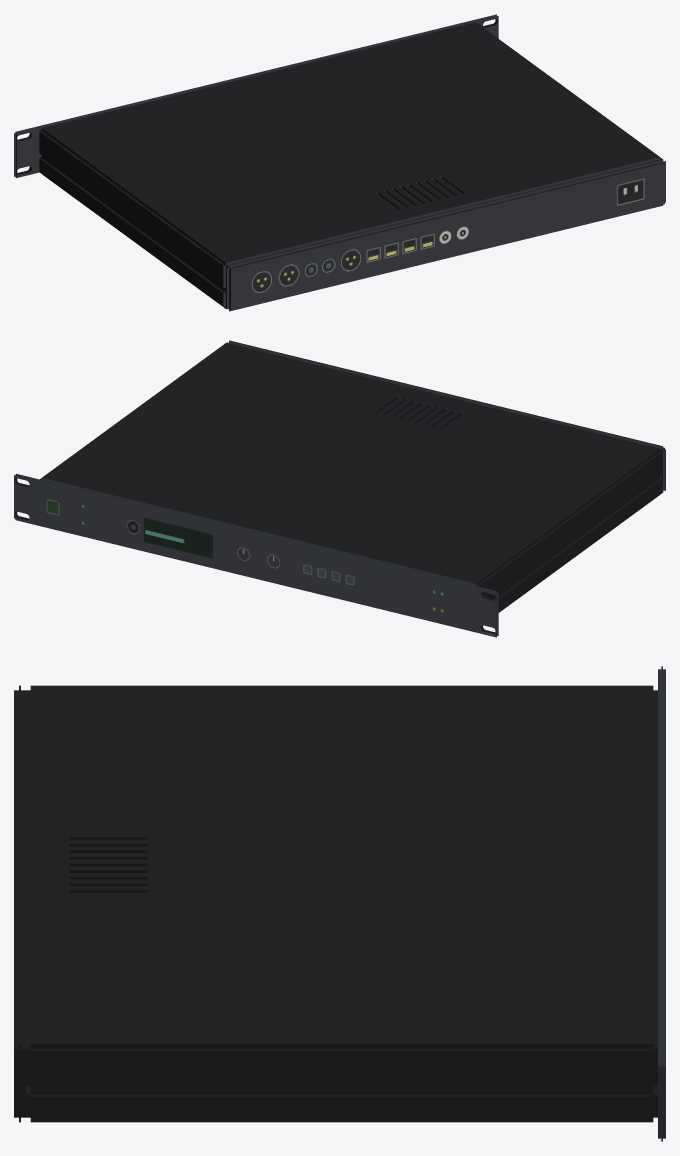
The model's file is shure-axient-digital-ad4d.glb.
3 views of the same model, one above another, from view 1: azimuth 30°, elevation 25°; view 2: azimuth 150°, elevation 25°; view 3: azimuth 270°, elevation 25° (orthographic). The views are drawn at different scales.
Visible parts, largest first — view 1: shure-axient-digital-ad4d-body; view 2: shure-axient-digital-ad4d-body; view 3: shure-axient-digital-ad4d-body.
Boxes of the visible parts, x1,y1,x2,y2 form: shure-axient-digital-ad4d-body: [14, 14, 665, 311]; shure-axient-digital-ad4d-body: [14, 340, 665, 637]; shure-axient-digital-ad4d-body: [14, 666, 665, 1141].
Bounding box in the file's own units: 0.483 × 0.044 × 0.333.
1 material, 1 textured.
